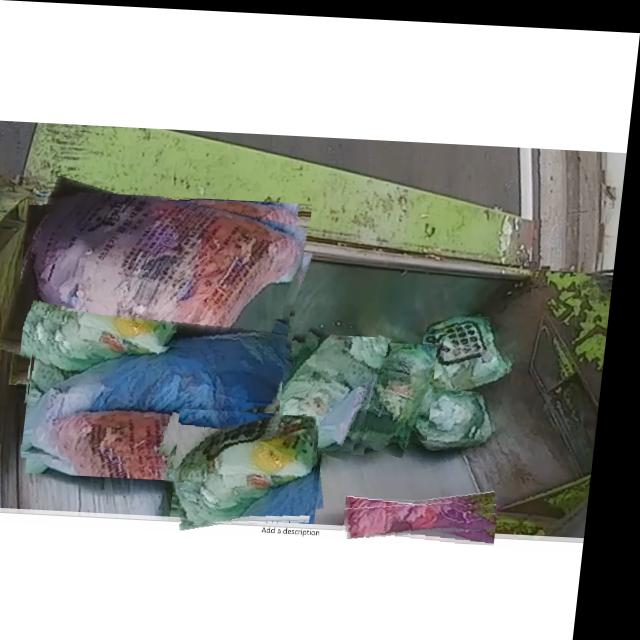general_trashbag: (186, 412, 328, 521), (287, 331, 383, 447), (351, 339, 443, 440), (427, 311, 516, 387), (418, 386, 502, 443)
other_trashbag: (38, 192, 311, 398), (34, 346, 326, 458), (356, 497, 507, 534)
